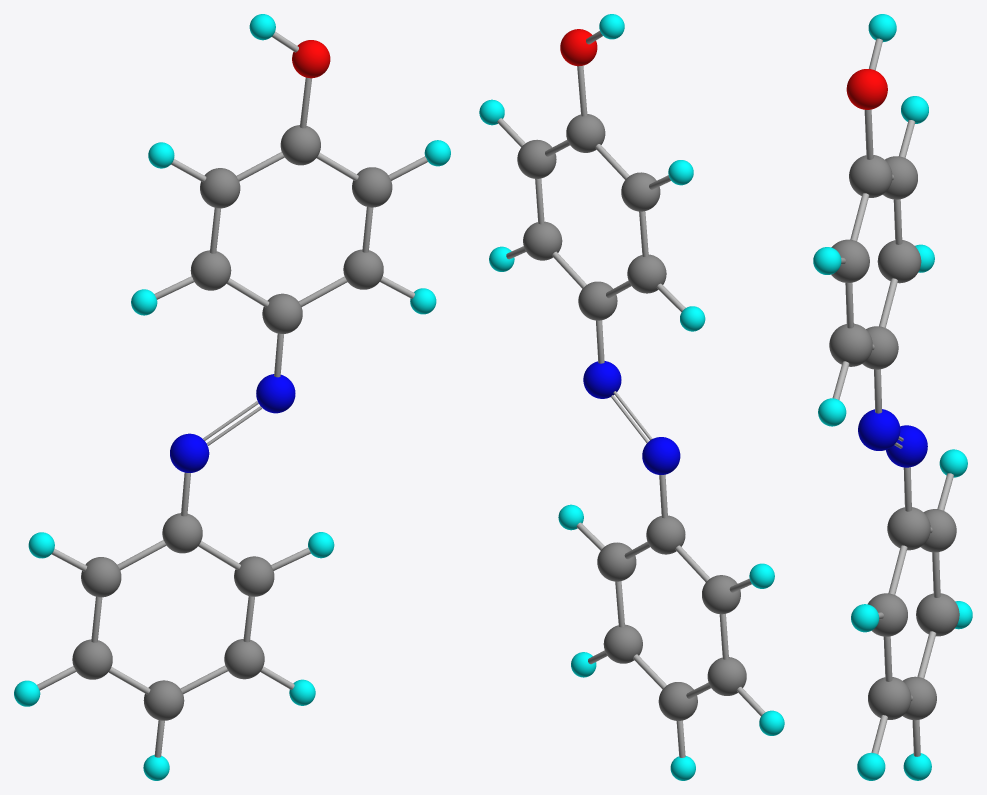
File: p-hydroxyazobenzene.glb
3 renders of one model, left to right at view 1: azimuth 30°, elevation 25°; view 2: azimuth 150°, elevation 25°; view 3: azimuth 270°, elevation 25°, orthographic. The views are drawn at different scales.
Visible parts, largest first — view 1: CMAtom_14, CMAtom_0, CMAtom_4, CMAtom_17, CMAtom_3, CMAtom_2, CMAtom_13, CMAtom_1, CMAtom_5, CMAtom_12, CMAtom_15, CMAtom_16 (+3 smaller); view 2: CMAtom_14, CMAtom_0, CMAtom_3, CMAtom_13, CMAtom_17, CMAtom_4, CMAtom_12, CMAtom_15, CMAtom_2, CMAtom_16, CMAtom_1, CMAtom_5 (+4 smaller); view 3: CMAtom_0, CMAtom_17, CMAtom_3, CMAtom_13, CMAtom_14, CMAtom_4, CMAtom_18, CMAtom_19, CMAtom_2, CMAtom_6, CMAtom_12, CMAtom_1 (+26 smaller).
Boxes of the visible parts, x1,y1,x2,y2 form: CMAtom_14: (343,249,383,289); CMAtom_0: (162,513,202,553); CMAtom_4: (224,639,264,679); CMAtom_17: (190,250,231,290); CMAtom_3: (72,639,112,679); CMAtom_2: (234,556,274,596); CMAtom_13: (280,125,320,165); CMAtom_1: (81,557,121,597); CMAtom_5: (143,680,184,720); CMAtom_12: (352,167,392,207); CMAtom_15: (200,168,240,208); CMAtom_16: (262,293,302,333); CMAtom_14: (523,221,562,260); CMAtom_0: (646,515,685,554); CMAtom_3: (707,657,746,695); CMAtom_13: (566,114,605,152); CMAtom_17: (627,254,666,293); CMAtom_4: (603,624,642,663); CMAtom_12: (517,139,556,178); CMAtom_15: (621,172,660,211); CMAtom_2: (597,542,636,581); CMAtom_16: (578,281,617,320); CMAtom_1: (702,575,740,614); CMAtom_5: (658,682,697,720); CMAtom_0: (887,507,930,550); CMAtom_17: (877,240,921,283); CMAtom_3: (916,593,959,636); CMAtom_13: (849,155,892,197); CMAtom_14: (829,323,872,366); CMAtom_4: (868,677,911,719); CMAtom_18: (858,409,900,450); CMAtom_19: (846,69,887,109); CMAtom_2: (868,593,907,636); CMAtom_6: (886,425,927,467); CMAtom_12: (831,239,869,282); CMAtom_1: (921,509,956,552).
Bounding box in the file's own units: 6.56 × 12.7 × 2.26.
